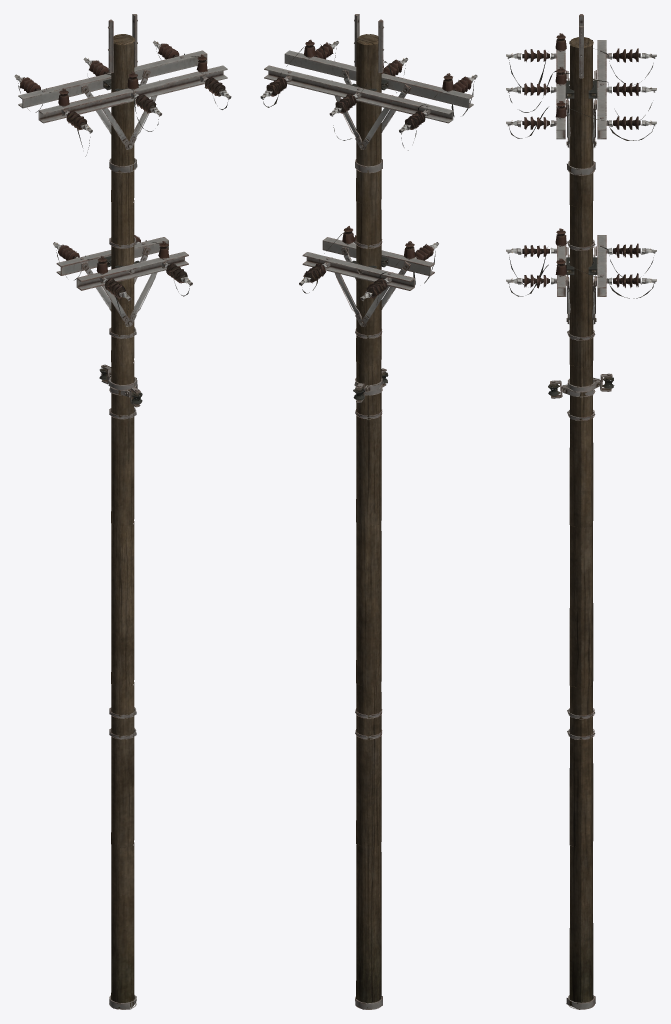
The model's file is power_pole.glb.
The picture shows the model from 3 angles, left to right: view 1: azimuth 30°, elevation 25°; view 2: azimuth 150°, elevation 25°; view 3: azimuth 270°, elevation 25°; orthographic projection.
Parts seen in each view (by area): view 1: power_pole; view 2: power_pole; view 3: power_pole.
Boxes of the visible parts, box(x1,y1,x2,y2) form: power_pole: box(14, 14, 231, 1009); power_pole: box(260, 14, 477, 1009); power_pole: box(506, 14, 656, 1009).
Size of the model in its own units: 1.2 by 6.13 by 0.8522.
2 materials, 2 textured.
